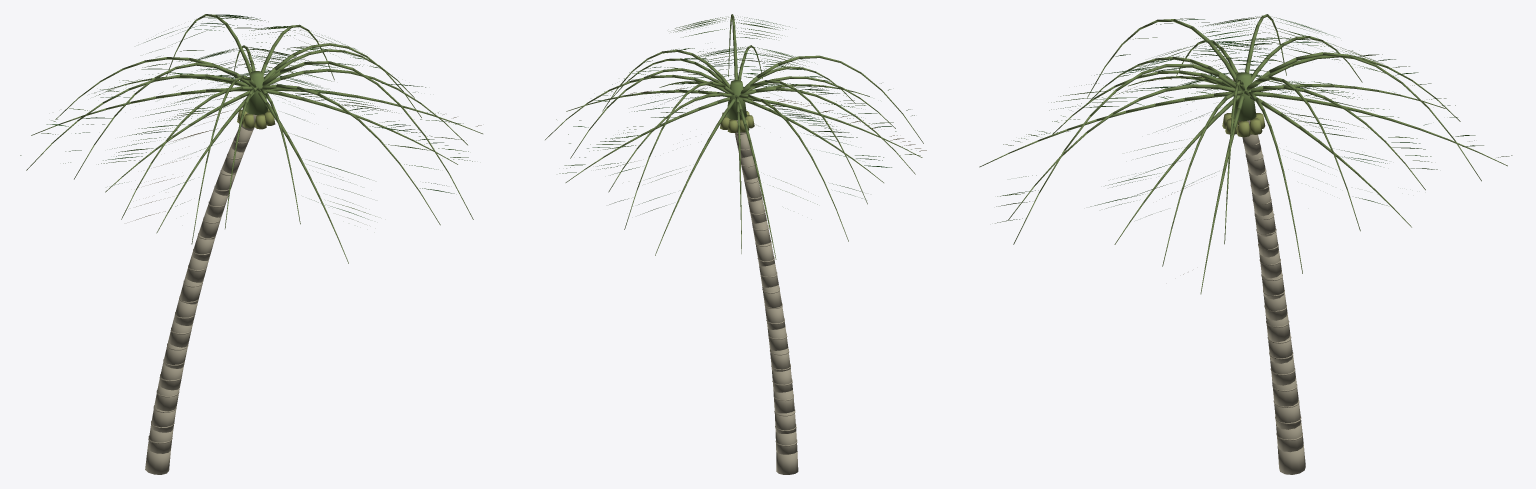
The model's file is young_palm.glb.
3 renders of one model, left to right at view 1: azimuth 30°, elevation 25°; view 2: azimuth 150°, elevation 25°; view 3: azimuth 270°, elevation 25°, orthographic. The views are drawn at different scales.
Parts seen in each view (by area): view 1: young_palm; view 2: young_palm; view 3: young_palm.
Boxes of the visible parts, box(x1,y1,x2,y2) form: young_palm: box(20, 14, 482, 474); young_palm: box(545, 14, 926, 474); young_palm: box(979, 14, 1512, 474).
Bounding box in the file's own units: 7.79 × 7.61 × 8.21.
